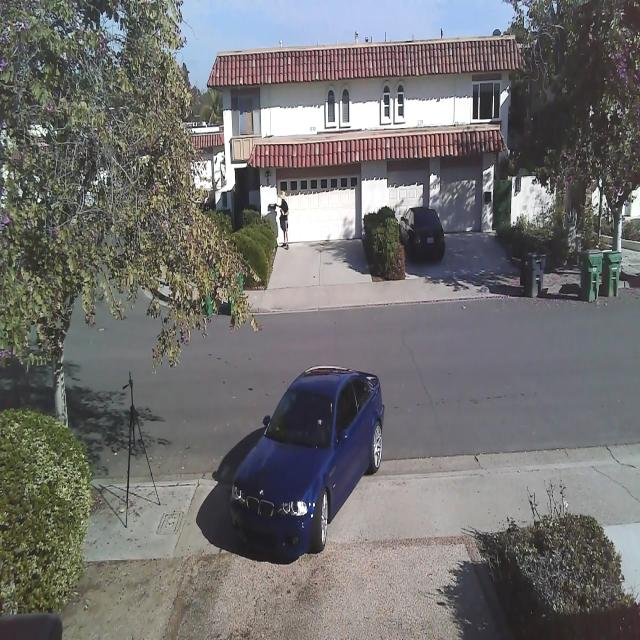Carbeetle: (226, 358, 387, 571)
Civilian: (399, 205, 445, 263)
